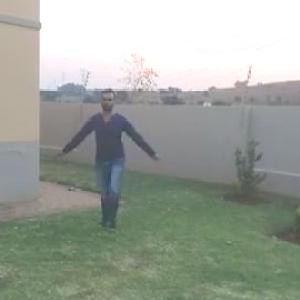land: (63, 86, 171, 224)
